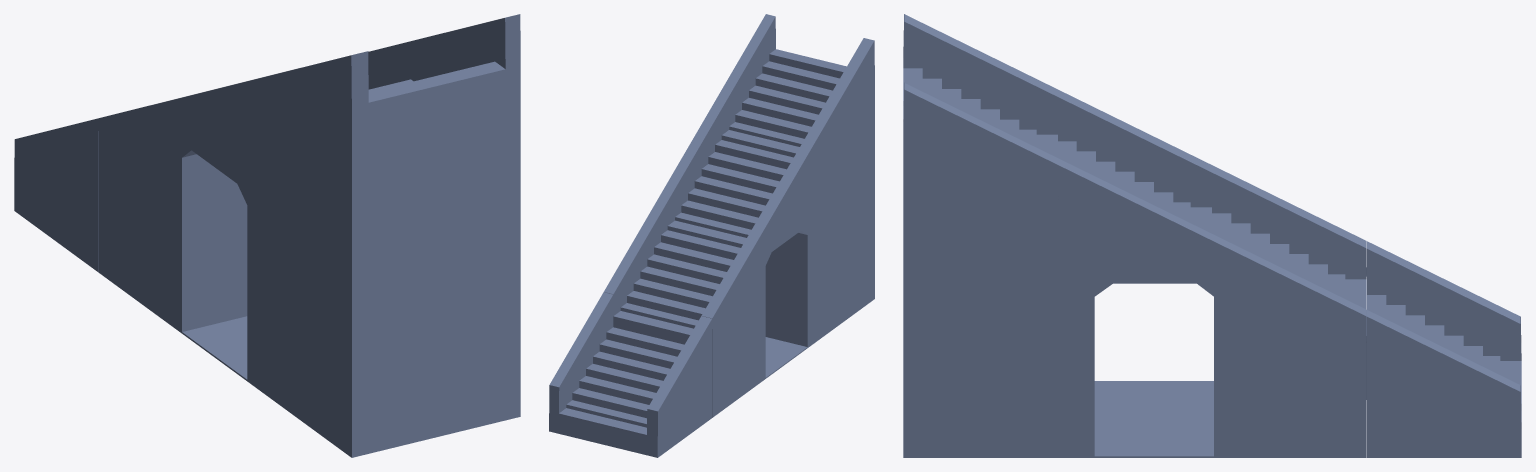
File: stairs_engine_room 1.fbx
The picture shows the model from 3 angles, left to right: view 1: azimuth 30°, elevation 25°; view 2: azimuth 150°, elevation 25°; view 3: azimuth 270°, elevation 25°; orthographic projection. The views are drawn at different scales.
Parts seen in each view (by area): view 1: pCube92; view 2: pCube92; view 3: pCube92.
Boxes of the visible parts, <box> form: pCube92: <box>14,14,520,457</box>; pCube92: <box>549,14,874,457</box>; pCube92: <box>903,14,1521,457</box>.
Size of the model in its own units: 25.51 by 58.06 by 88.29.
